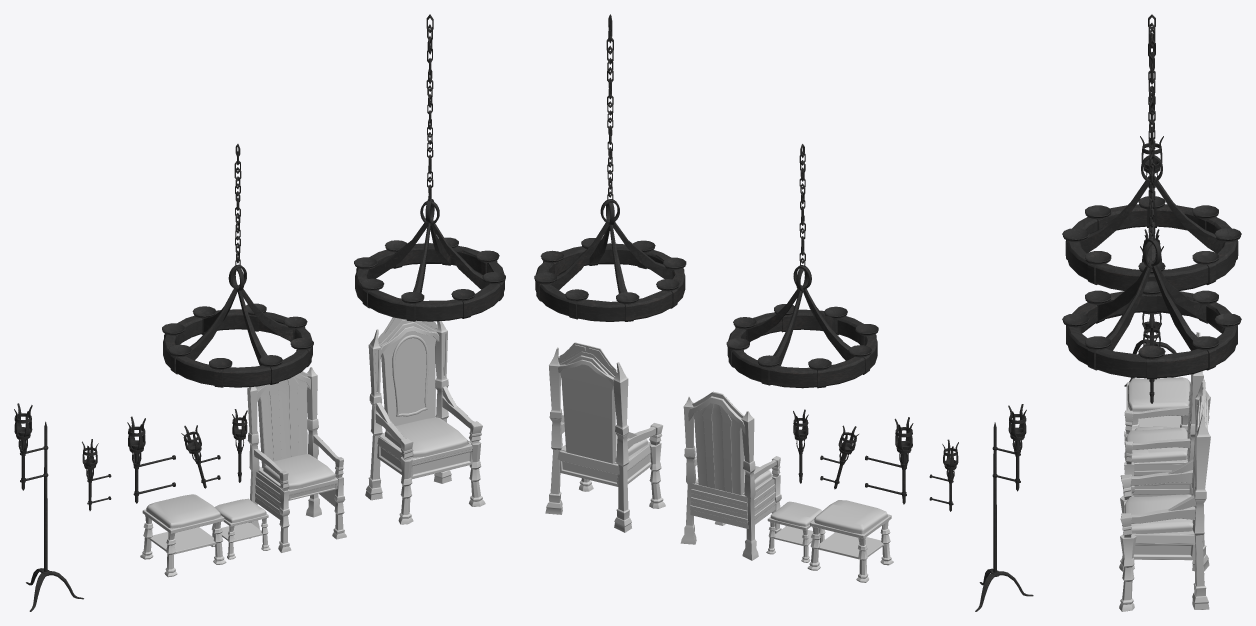
The model's file is Throne_Room_Supply_1A1.fbx.
3 views of the same model, side by side, from view 1: azimuth 30°, elevation 25°; view 2: azimuth 150°, elevation 25°; view 3: azimuth 270°, elevation 25° (orthographic). The views are drawn at different scales.
Visible parts, largest first — view 1: Kings_Chair_A, Queens_Chair_A, Chandelier_1A1, Chandelier_1A2, Throne_Stool_A, Sconce_Torch_1A5, Throne_Stool_B, Sconce_Torch_1A4; view 2: Kings_Chair_A, Queens_Chair_A, Chandelier_1A1, Chandelier_1A2, Throne_Stool_A, Sconce_Torch_1A5, Throne_Stool_B, Sconce_Torch_1A4; view 3: Chandelier_1A1, Chandelier_1A2, Kings_Chair_A, Queens_Chair_A, Throne_Stool_A, Sconce_Torch_1A5, Sconce_Torch_1A1, Sconce_Torch_1A2.
Boxes of the visible parts, x1=… form: Kings_Chair_A: x1=365, y1=317, x2=485, y2=524; Queens_Chair_A: x1=247, y1=367, x2=346, y2=552; Chandelier_1A1: x1=354, y1=14, x2=505, y2=321; Chandelier_1A2: x1=162, y1=144, x2=313, y2=387; Throne_Stool_A: x1=140, y1=494, x2=226, y2=577; Sconce_Torch_1A5: x1=14, y1=403, x2=83, y2=611; Throne_Stool_B: x1=210, y1=498, x2=270, y2=559; Sconce_Torch_1A4: x1=127, y1=416, x2=175, y2=503; Kings_Chair_A: x1=545, y1=342, x2=665, y2=532; Queens_Chair_A: x1=680, y1=391, x2=781, y2=560; Chandelier_1A1: x1=534, y1=14, x2=686, y2=321; Chandelier_1A2: x1=726, y1=144, x2=878, y2=388; Throne_Stool_A: x1=807, y1=500, x2=893, y2=582; Sconce_Torch_1A5: x1=975, y1=404, x2=1033, y2=611; Throne_Stool_B: x1=766, y1=501, x2=825, y2=562; Sconce_Torch_1A4: x1=865, y1=417, x2=913, y2=504; Chandelier_1A1: x1=1062, y1=27, x2=1241, y2=379; Chandelier_1A2: x1=1062, y1=14, x2=1241, y2=290; Kings_Chair_A: x1=1119, y1=379, x2=1210, y2=611; Queens_Chair_A: x1=1124, y1=332, x2=1203, y2=496; Throne_Stool_A: x1=1126, y1=377, x2=1190, y2=430; Sconce_Torch_1A5: x1=1124, y1=136, x2=1176, y2=386; Sconce_Torch_1A1: x1=1142, y1=318, x2=1161, y2=403; Sconce_Torch_1A2: x1=1142, y1=312, x2=1161, y2=381.
Size of the model in its own units: 755 by 733 by 213.
